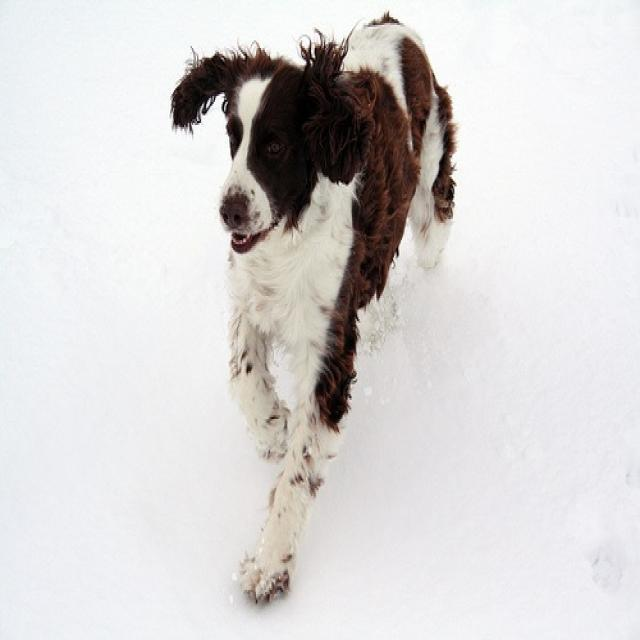dog: (171, 9, 457, 618)
